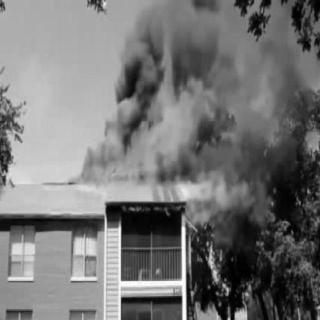Fire: (82, 30, 220, 198)
Smoke: (134, 6, 252, 66), (216, 146, 258, 210)
